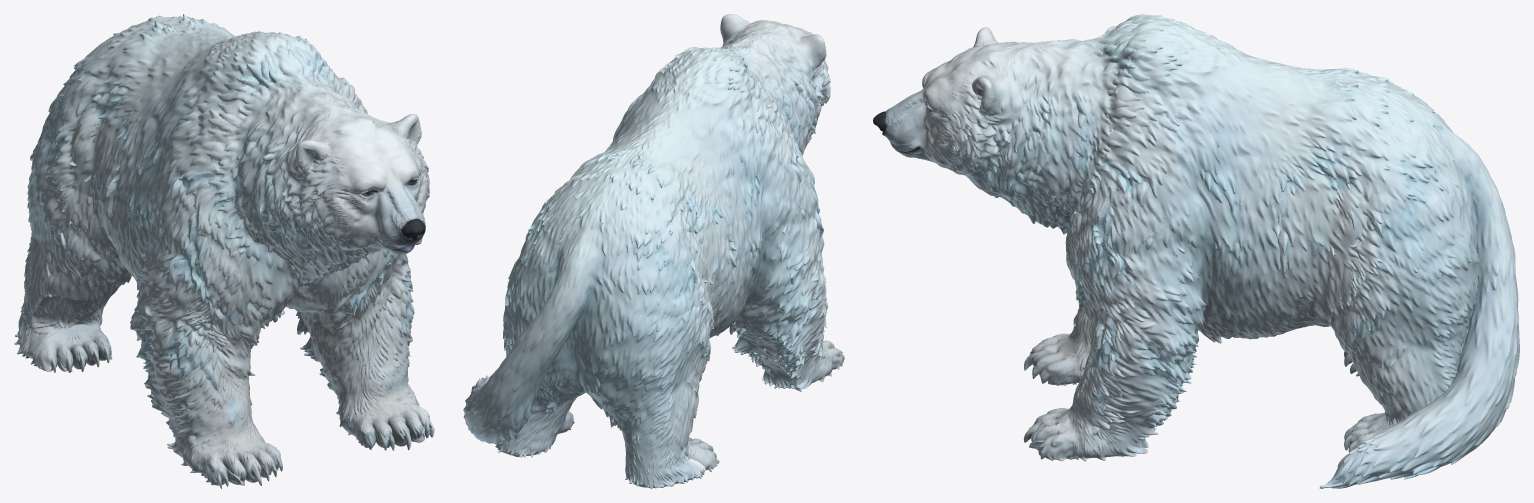
File: sundermaw.glb
3 renders of one model, left to right at view 1: azimuth 30°, elevation 25°; view 2: azimuth 150°, elevation 25°; view 3: azimuth 270°, elevation 25°, orthographic. The views are drawn at different scales.
Visible parts, largest first — view 1: tripo_node_b87f8ee9-3023-449c-93db-bb20d4ce9cf1; view 2: tripo_node_b87f8ee9-3023-449c-93db-bb20d4ce9cf1; view 3: tripo_node_b87f8ee9-3023-449c-93db-bb20d4ce9cf1.
Part boxes in pixels (x1,y1,x2,y2): tripo_node_b87f8ee9-3023-449c-93db-bb20d4ce9cf1: [14, 14, 434, 488]; tripo_node_b87f8ee9-3023-449c-93db-bb20d4ce9cf1: [463, 14, 844, 488]; tripo_node_b87f8ee9-3023-449c-93db-bb20d4ce9cf1: [873, 14, 1519, 488].
Bounding box in the file's own units: 0.5342 × 0.6487 × 0.9786.
Materials: 1 (1 with a texture image).
